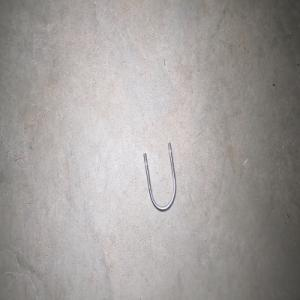ClampPart: (143, 141, 176, 212)
